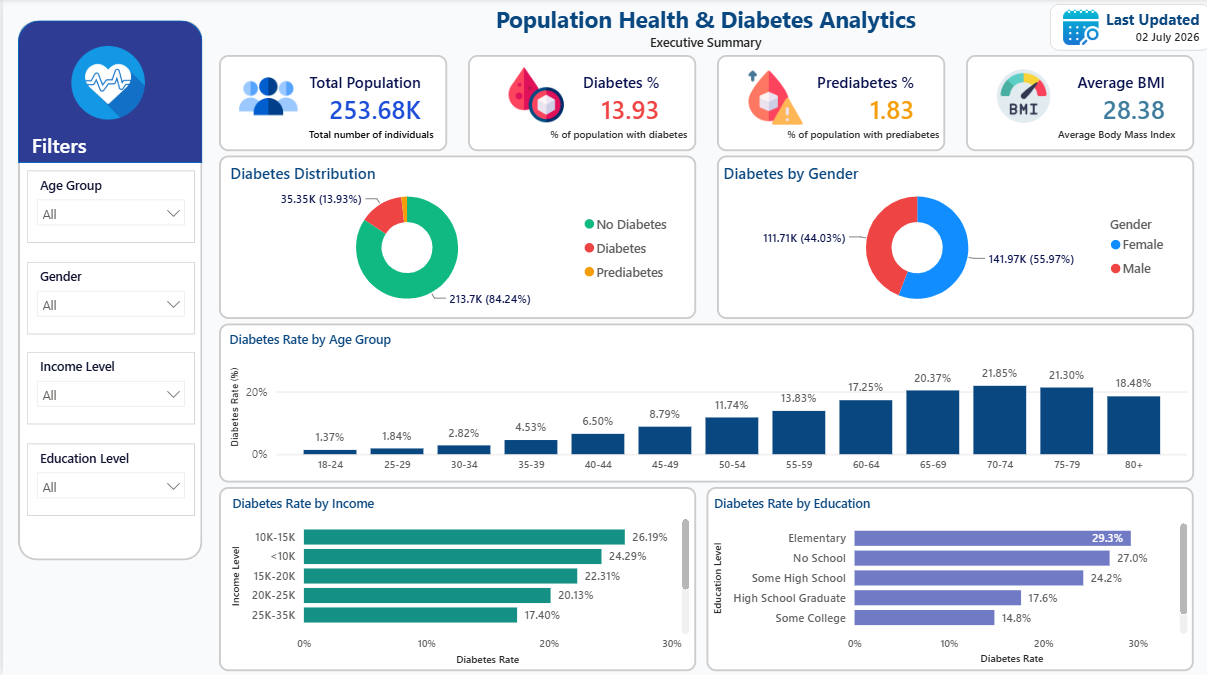

The dashboard page shown, as its layout file describes it:
{"tool":"powerbi","page":{"name":"Executive Summary","canvas":[1280,720],"ordinal":0},"visuals":[{"type":"shape","box":[15.9,23.9,195.6,572.6],"z":0},{"type":"cardVisual","fields":{"Data":["diabetes_featuredFinal.Total Population"]},"box":[229,61,241.8,101.8],"z":1000},{"type":"cardVisual","fields":{"Data":["diabetes_featuredFinal.Diabetes %"]},"box":[493.1,61,241.8,101.8],"z":2000},{"type":"cardVisual","fields":{"Data":["diabetes_featuredFinal.Prediabetes %"]},"box":[757.1,61,241.8,101.8],"z":3000},{"type":"cardVisual","fields":{"Data":["diabetes_featuredFinal.Average BMI"]},"box":[1021.2,61,241.8,101.8],"z":4000},{"type":"image","box":[249.7,73.2,63.6,62],"z":5000},{"type":"image","box":[520.1,73.2,90.7,58.9],"z":6000},{"type":"image","box":[790.5,76.3,57.3,58.9],"z":7000},{"type":"image","box":[1040.3,74.8,84.3,58.9],"z":8000},{"type":"shape","box":[15.9,23.9,195.6,151.1],"z":9000},{"type":"donutChart","title":"Diabetes Distribution","fields":{"Category":["diabetes_featuredFinal.Diabetes_Status"],"Y":["CountNonNull(diabetes_featuredFinal.Diabetes_012)"]},"box":[229,167.5,505.8,173.4],"z":10000},{"type":"donutChart","title":"Diabetes by Gender","fields":{"Category":["diabetes_featuredFinal.Gender"],"Y":["CountNonNull(diabetes_featuredFinal.Diabetes_012)"]},"box":[757.1,167.5,505.8,173.4],"z":11000},{"type":"columnChart","title":"Diabetes Rate by Age Group","fields":{"Category":["diabetes_featuredFinal.Age_Group"],"Y":["diabetes_featuredFinal.Diabetes Rate"]},"box":[229,345.2,1033.9,168.6],"z":12000},{"type":"barChart","title":"Diabetes Rate by Income","fields":{"Category":["diabetes_featuredFinal.Income_Level"],"Y":["diabetes_featuredFinal.Diabetes Rate"]},"box":[229,517.9,505.8,195.6],"z":13000},{"type":"barChart","title":"Diabetes Rate by Education","fields":{"Category":["diabetes_featuredFinal.Education_Level"],"Y":["diabetes_featuredFinal.Diabetes Rate"]},"box":[746,517.9,516.9,195.6],"z":14000},{"type":"slicer","fields":{"Values":["diabetes_featuredFinal.Age_Group"]},"box":[25.4,182.9,178.1,76.3],"z":15000},{"type":"slicer","fields":{"Values":["diabetes_featuredFinal.Gender"]},"box":[25.4,279.4,178.1,76.3],"z":16000},{"type":"slicer","fields":{"Values":["diabetes_featuredFinal.Income_Level"]},"box":[25.4,375.9,178.1,76.3],"z":17000},{"type":"slicer","fields":{"Values":["diabetes_featuredFinal.Education_Level"]},"box":[25.4,472.4,178.1,76.3],"z":18000},{"type":"image","box":[52.5,50.9,117.7,77.9],"z":19000},{"type":"textbox","box":[25.4,135.2,82.7,42.9],"z":20000},{"type":"textbox","box":[345.2,0,800.1,62],"z":21000},{"type":"textbox","box":[308.6,128.8,163.8,35],"z":22000},{"type":"textbox","box":[571,128.8,163.8,35],"z":23000},{"type":"textbox","box":[819.2,128.8,186.1,35],"z":24000},{"type":"textbox","box":[1099.1,128.8,163.8,35],"z":25000},{"type":"cardVisual","fields":{"Data":["diabetes_featuredFinal.Last Update"]},"box":[1110.2,6.4,170.2,49.3],"z":26000},{"type":"image","box":[1123,6.4,39.8,49.3],"z":27000}]}

Visuals, with their boxes in screenshot pixels (x1, y1, x2, y2), scaled from the page's 1280x720 canvas onto the 1207x675 screenshot:
shape: (15, 22, 199, 559)
cardVisual - diabetes_featuredFinal.Total Population: (216, 57, 444, 153)
cardVisual - diabetes_featuredFinal.Diabetes %: (465, 57, 693, 153)
cardVisual - diabetes_featuredFinal.Prediabetes %: (714, 57, 942, 153)
cardVisual - diabetes_featuredFinal.Average BMI: (963, 57, 1191, 153)
image: (235, 69, 295, 127)
image: (490, 69, 576, 124)
image: (745, 72, 799, 127)
image: (981, 70, 1060, 125)
shape: (15, 22, 199, 164)
"Diabetes Distribution" donutChart: (216, 157, 693, 320)
"Diabetes by Gender" donutChart: (714, 157, 1191, 320)
"Diabetes Rate by Age Group" columnChart: (216, 324, 1191, 482)
"Diabetes Rate by Income" barChart: (216, 486, 693, 669)
"Diabetes Rate by Education" barChart: (703, 486, 1191, 669)
slicer - diabetes_featuredFinal.Age_Group: (24, 171, 192, 243)
slicer - diabetes_featuredFinal.Gender: (24, 262, 192, 333)
slicer - diabetes_featuredFinal.Income_Level: (24, 352, 192, 424)
slicer - diabetes_featuredFinal.Education_Level: (24, 443, 192, 514)
image: (50, 48, 160, 121)
textbox: (24, 127, 102, 167)
textbox: (326, 0, 1080, 58)
textbox: (291, 121, 445, 154)
textbox: (538, 121, 693, 154)
textbox: (772, 121, 948, 154)
textbox: (1036, 121, 1191, 154)
cardVisual - diabetes_featuredFinal.Last Update: (1047, 6, 1206, 52)
image: (1059, 6, 1096, 52)
